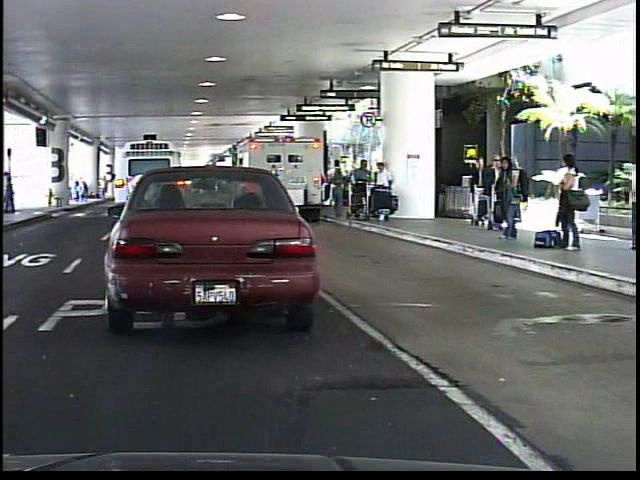person: (553, 148, 583, 256), (624, 154, 639, 250)
